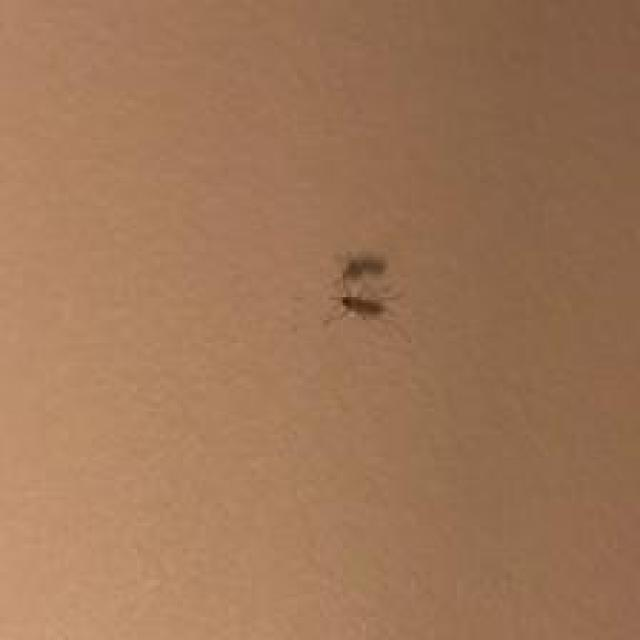Culex: (321, 248, 410, 343)
